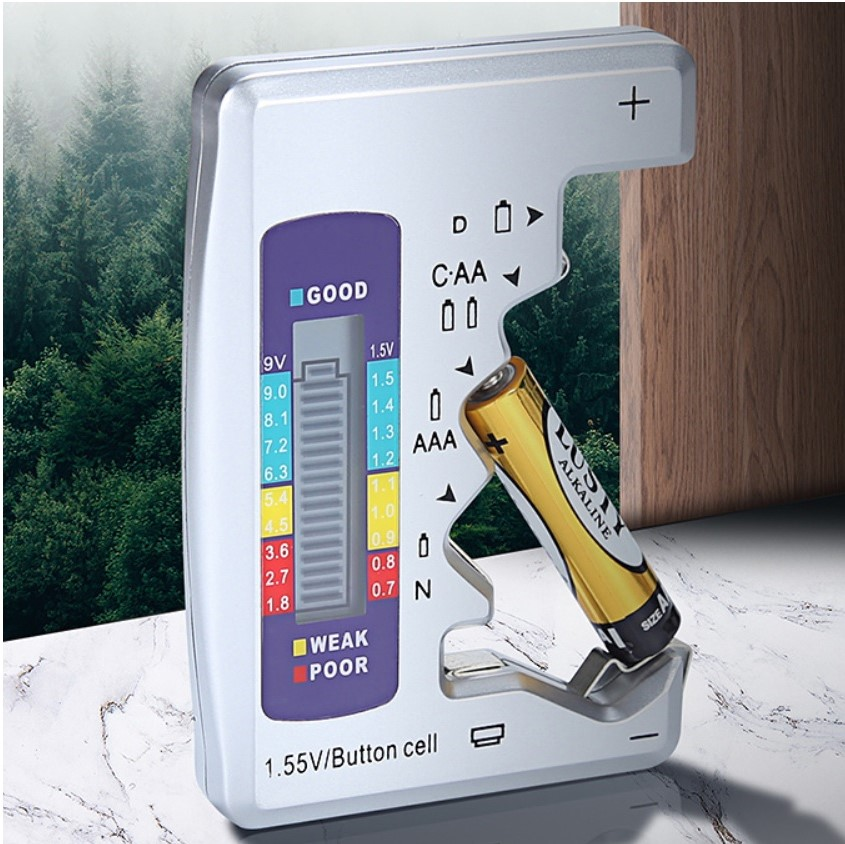Battery: (463, 354, 683, 670)
